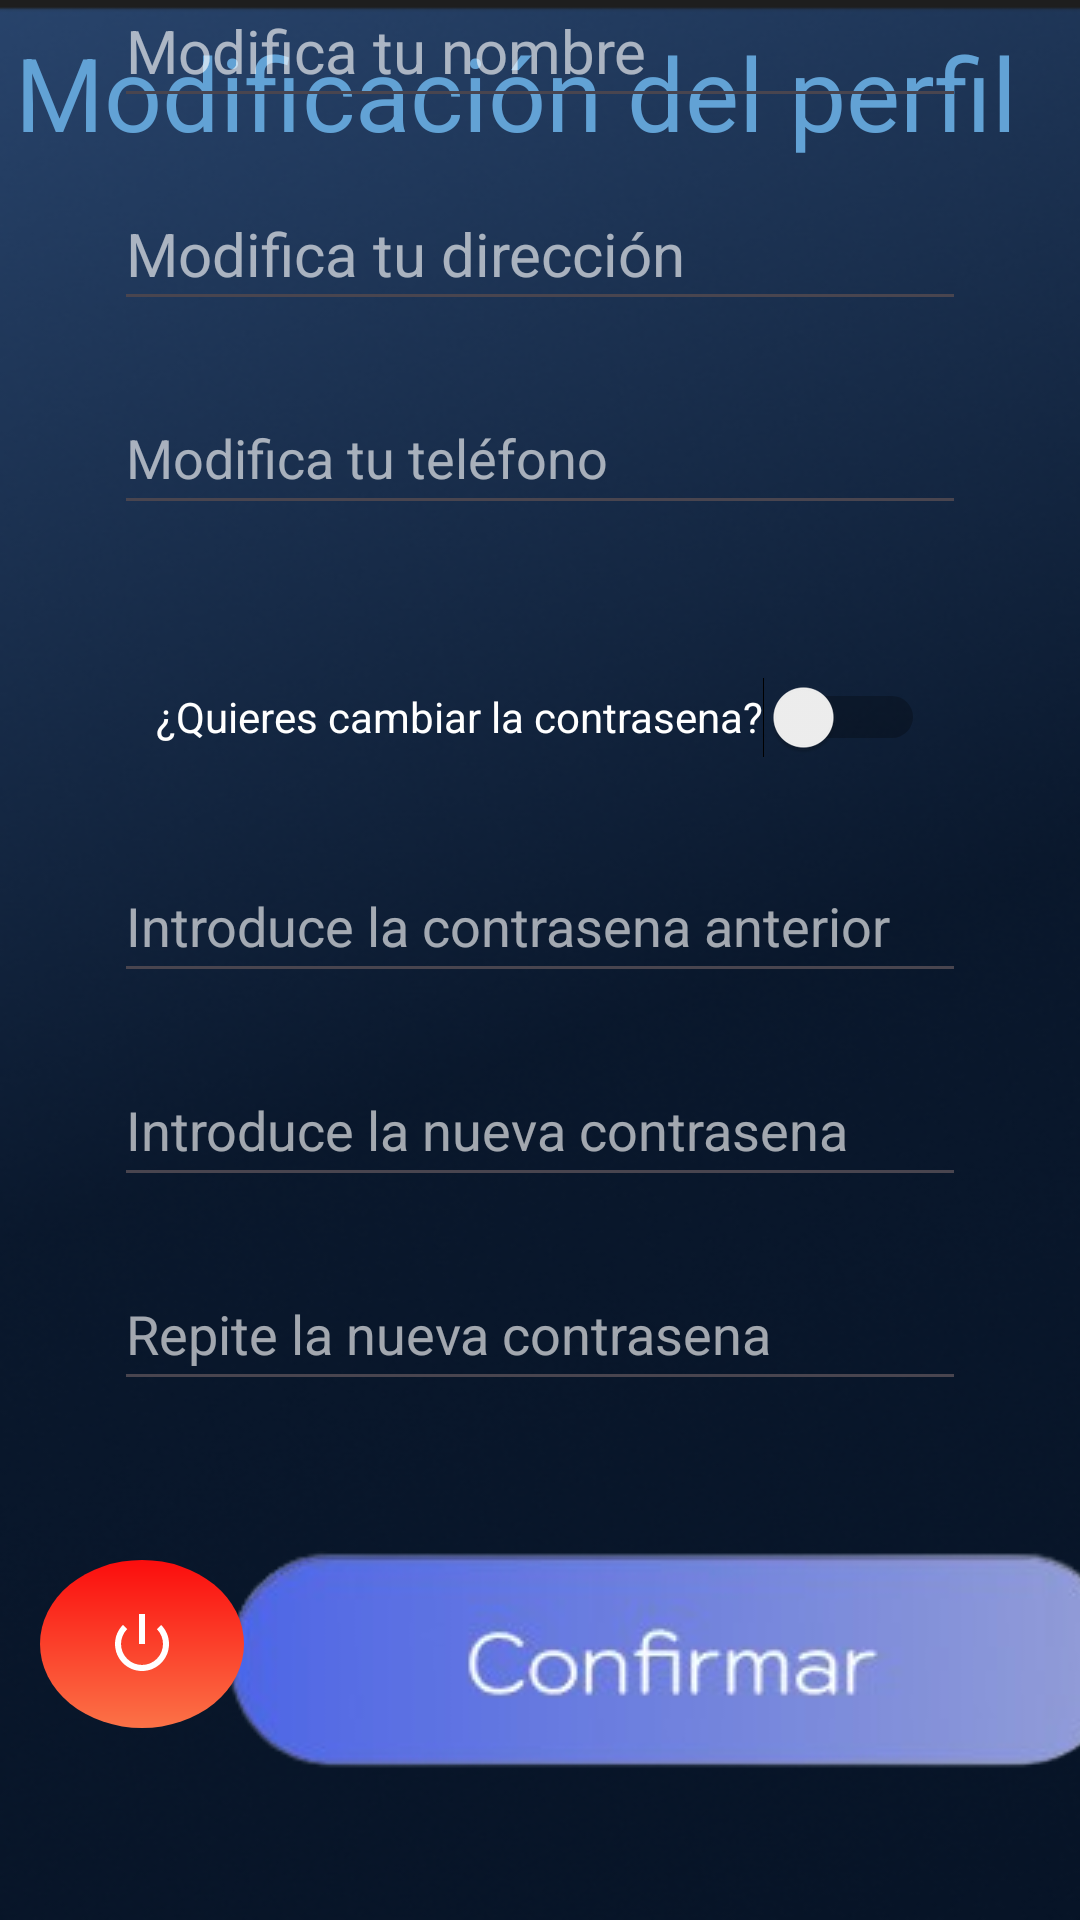

Screen size 1080x1920. Icon name, then its center in pixels as (x=x, y=y):
lock power off: (x=142, y=1644)
